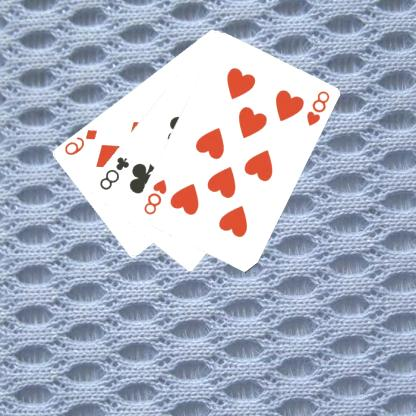8C: (98, 154, 132, 192)
8H: (305, 88, 333, 128), (142, 176, 169, 216)
9D: (63, 126, 100, 157)
